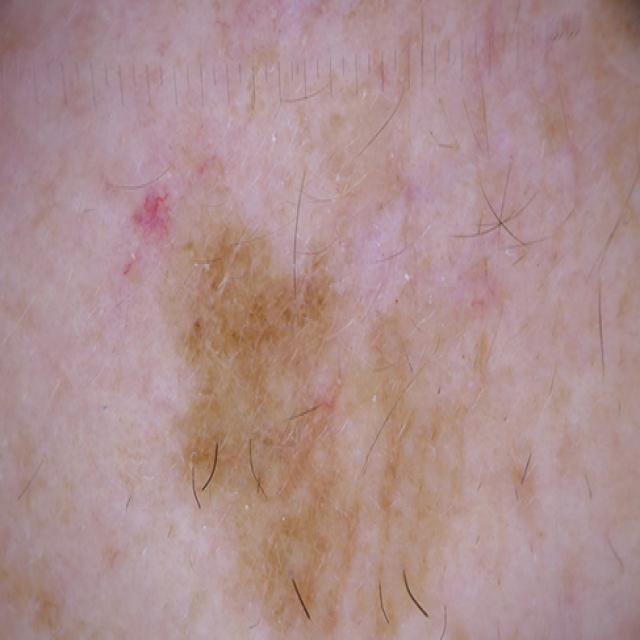Keratosis: (123, 142, 496, 640)
